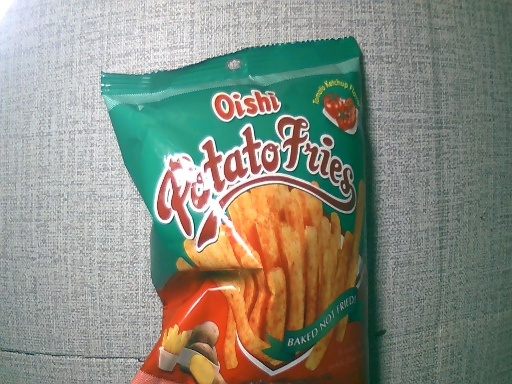plastic: (100, 36, 372, 380)
